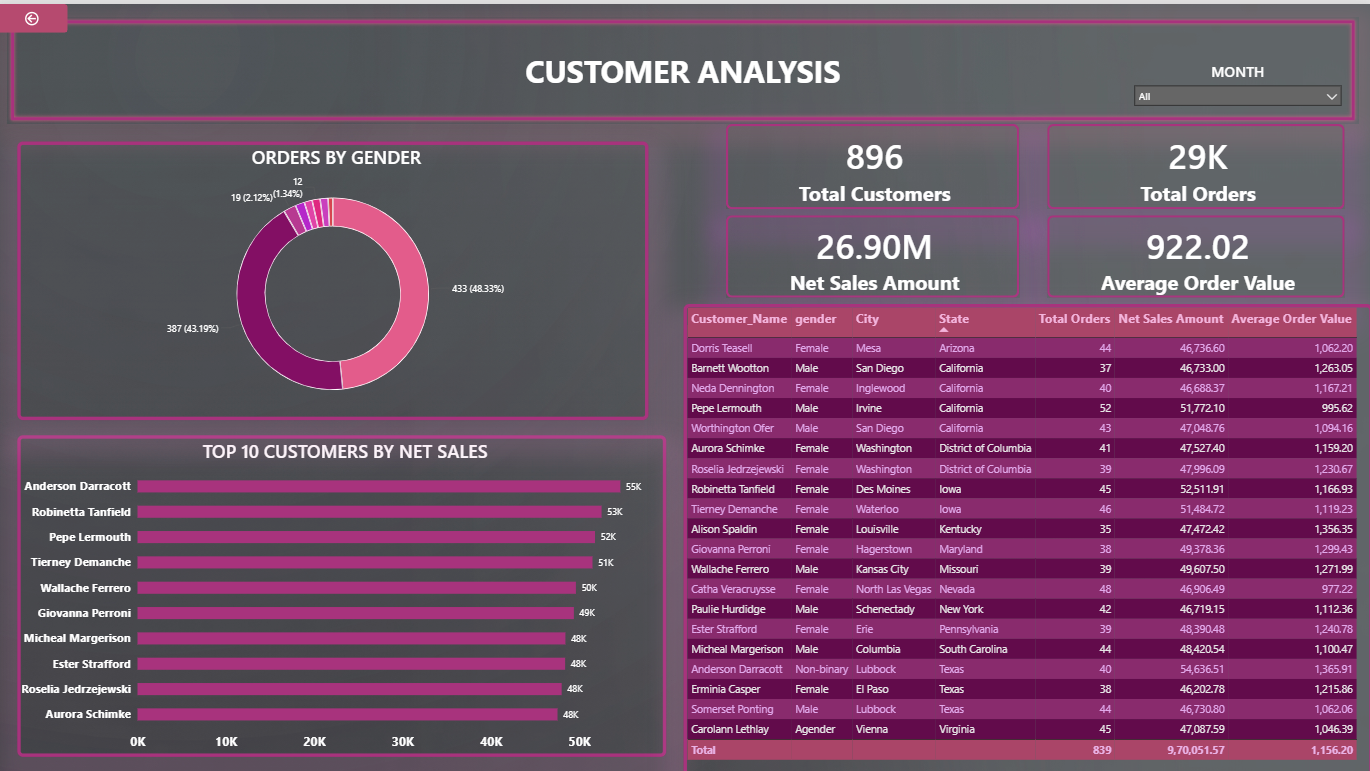

The dashboard page shown, as its layout file describes it:
{"tool":"powerbi","page":{"name":"CUSTOMER ANALYSIS","canvas":[1920,1080],"ordinal":3},"visuals":[{"type":"shape","title":"HOME APPLIANCE & ELECTRONICS SALES ANALYTICS","box":[15.7,17.4,1885.5,150],"z":0},{"type":"cardVisual","fields":{"Data":["_MEASURES.Total Customers"]},"box":[1018.9,166.7,409.6,119.4],"z":1000},{"type":"cardVisual","fields":{"Data":["_MEASURES.Total Orders"]},"box":[1467.6,166.7,415.8,119.4],"z":2000},{"type":"cardVisual","fields":{"Data":["_MEASURES.Net Sales Amount"]},"box":[1018.9,294.3,409.6,115.3],"z":3000},{"type":"cardVisual","fields":{"Data":["_MEASURES.Average Order Value"]},"box":[1467.6,294.3,415.8,115.3],"z":4000},{"type":"clusteredBarChart","title":"TOP 10 CUSTOMERS BY NET SALES","fields":{"Y":["_MEASURES.Net Sales Amount"],"Category":["customers.full name"]},"box":[28.8,601,905.7,448.7],"z":5000},{"type":"donutChart","title":"ORDERS BY GENDER","fields":{"Category":["customers.gender"],"Y":["CountNonNull(customers.Customer ID)"]},"box":[28.8,191.4,881,389],"z":6000},{"type":"tableEx","fields":{"Values":["customers.full name","customers.gender","customers.City","customers.State","_MEASURES.Total Orders","_MEASURES.Net Sales Amount","_MEASURES.Average Order Value"]},"box":[959.2,417.8,961.2,662.8],"z":7000},{"type":"slicer","title":"MONTH","fields":{"Values":["Calendar.Year-Month"]},"box":[1583.3,80,298.3,70],"z":8000},{"type":"actionButton","box":[0,0,100,40],"z":9000}]}

Visuals, with their boxes in screenshot pixels (x1, y1, x2, y2), scaled from the page's 1920x1080 canvas onto the 1370x771 screenshot:
"HOME APPLIANCE & ELECTRONICS SALES ANALYTICS" shape: 11/12/1357/120
cardVisual - _MEASURES.Total Customers: 727/119/1019/204
cardVisual - _MEASURES.Total Orders: 1047/119/1344/204
cardVisual - _MEASURES.Net Sales Amount: 727/210/1019/292
cardVisual - _MEASURES.Average Order Value: 1047/210/1344/292
"TOP 10 CUSTOMERS BY NET SALES" clusteredBarChart: 21/429/667/749
"ORDERS BY GENDER" donutChart: 21/137/649/414
tableEx - customers.full name x customers.gender: 684/298/1369/770
"MONTH" slicer: 1130/57/1343/107
actionButton: 0/0/71/29
